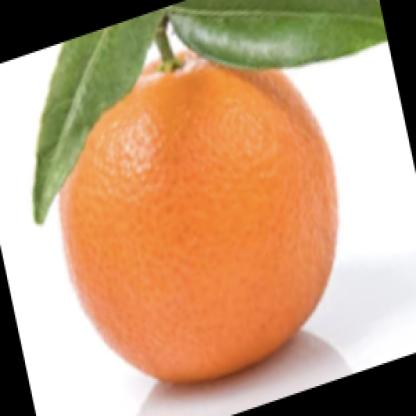fresh: (60, 45, 339, 380)
